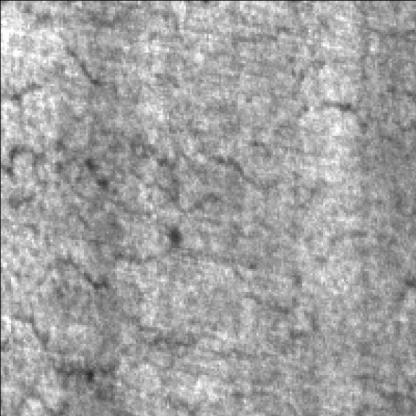crazing: (6, 102, 366, 223), (4, 258, 275, 385)
